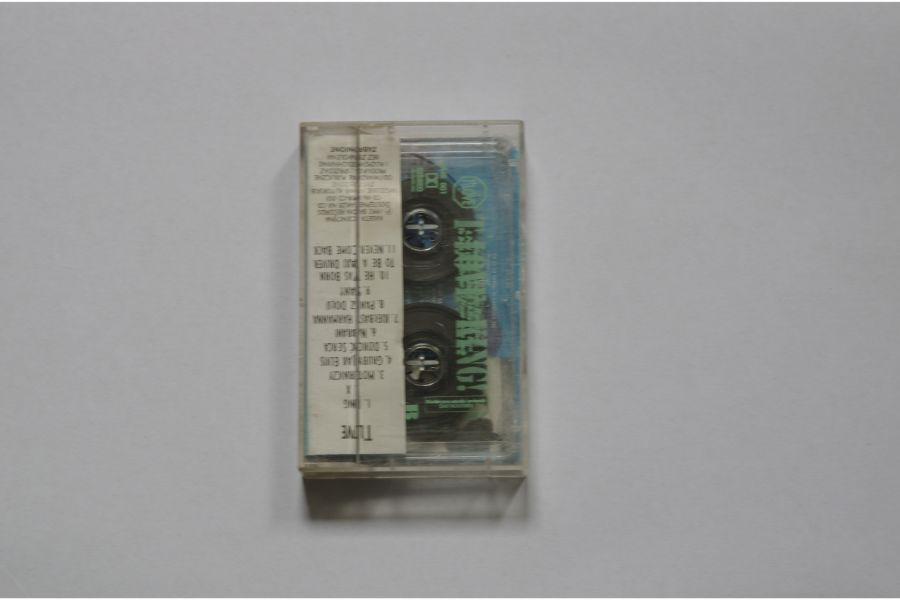album: (294, 119, 532, 477)
